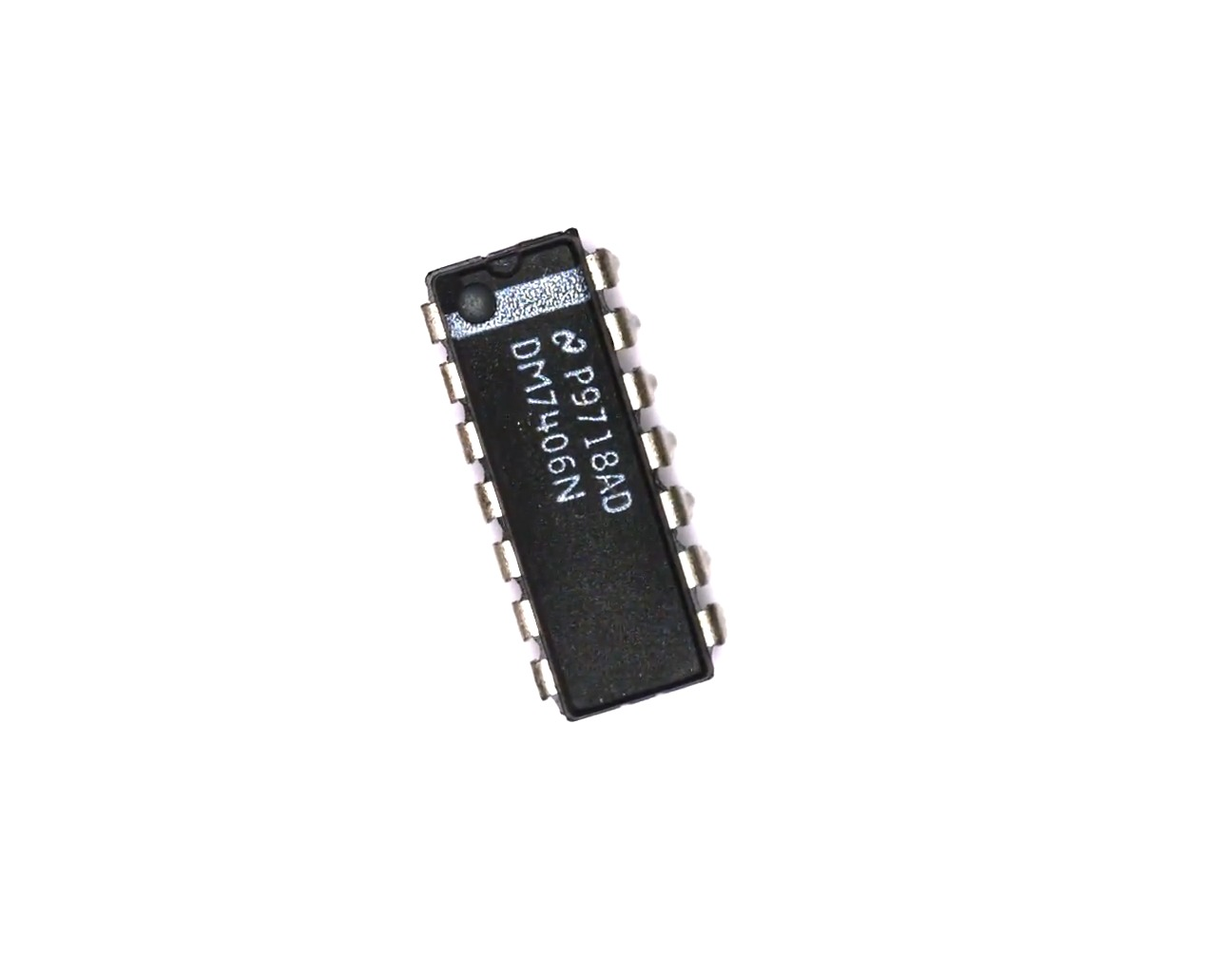IC: (396, 207, 752, 740)
notch: (478, 243, 527, 285)
